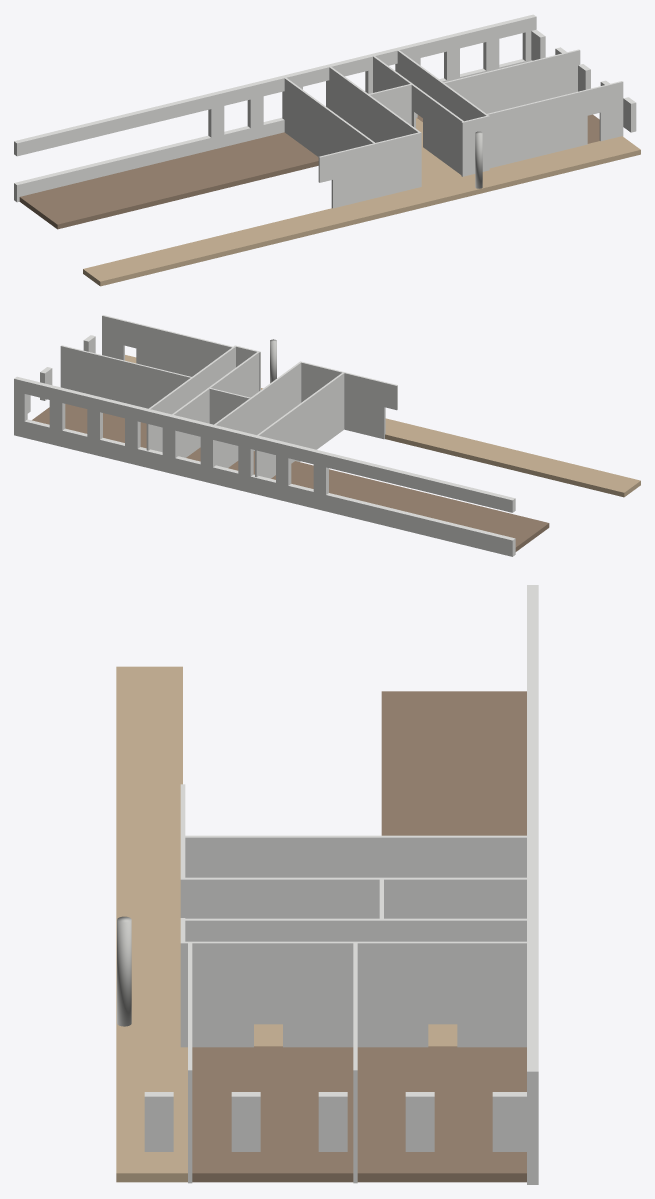
The model's file is SM_Bygg_Helgasetr_P4_O_N.fbx.
3 renders of one model, top to bottom at view 1: azimuth 30°, elevation 25°; view 2: azimuth 150°, elevation 25°; view 3: azimuth 270°, elevation 25°, orthographic. The views are drawn at different scales.
Visible parts, largest first — view 1: SM_Bygg_Helgasetr_P4_O_N; view 2: SM_Bygg_Helgasetr_P4_O_N; view 3: SM_Bygg_Helgasetr_P4_O_N.
Part boxes in pixels (x1=…): SM_Bygg_Helgasetr_P4_O_N: x1=14, y1=14, x2=640, y2=286; SM_Bygg_Helgasetr_P4_O_N: x1=14, y1=315, x2=640, y2=556; SM_Bygg_Helgasetr_P4_O_N: x1=116, y1=585, x2=538, y2=1184.
Bounding box in the file's own units: 14.56 × 41.5 × 4.3.
